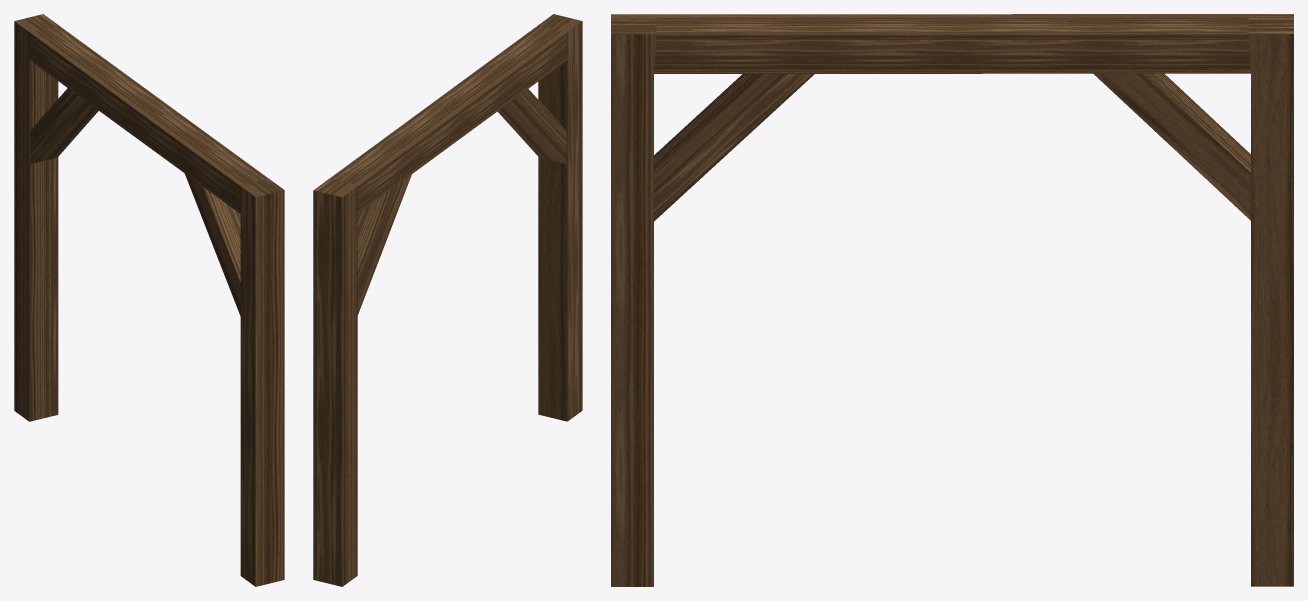
Rendered from Wooden2.obj.
3 views of the same model, side by side, from view 1: azimuth 30°, elevation 25°; view 2: azimuth 150°, elevation 25°; view 3: azimuth 270°, elevation 25° (orthographic). The views are drawn at different scales.
Visible parts, largest first — view 1: Wooden_14.001_Cube.004; view 2: Wooden_14.001_Cube.004; view 3: Wooden_14.001_Cube.004.
Boxes of the visible parts, x1=… form: Wooden_14.001_Cube.004: x1=14, y1=14, x2=284, y2=586; Wooden_14.001_Cube.004: x1=313, y1=14, x2=582, y2=586; Wooden_14.001_Cube.004: x1=611, y1=14, x2=1293, y2=586.
Bounding box in the file's own units: 0.5684 × 7.15 × 8.01.
